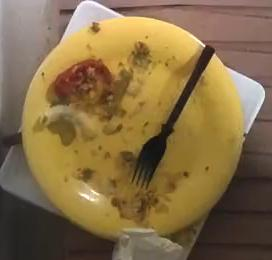vegetables: (46, 59, 111, 103)
